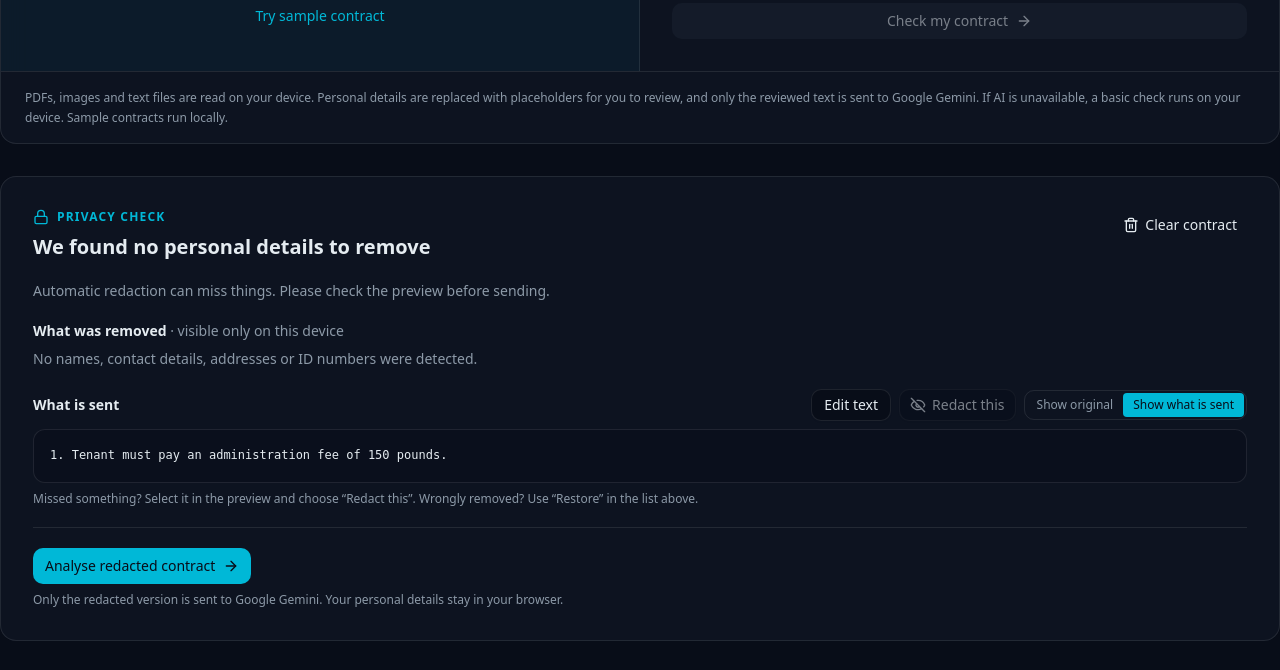
Test: uses local rules when AI fails after the reviewed PDF text is submitted
(page scrolled)
Click the button "Analyse redacted contract": (142, 566) [33,548,251,584]
(page scrolled)
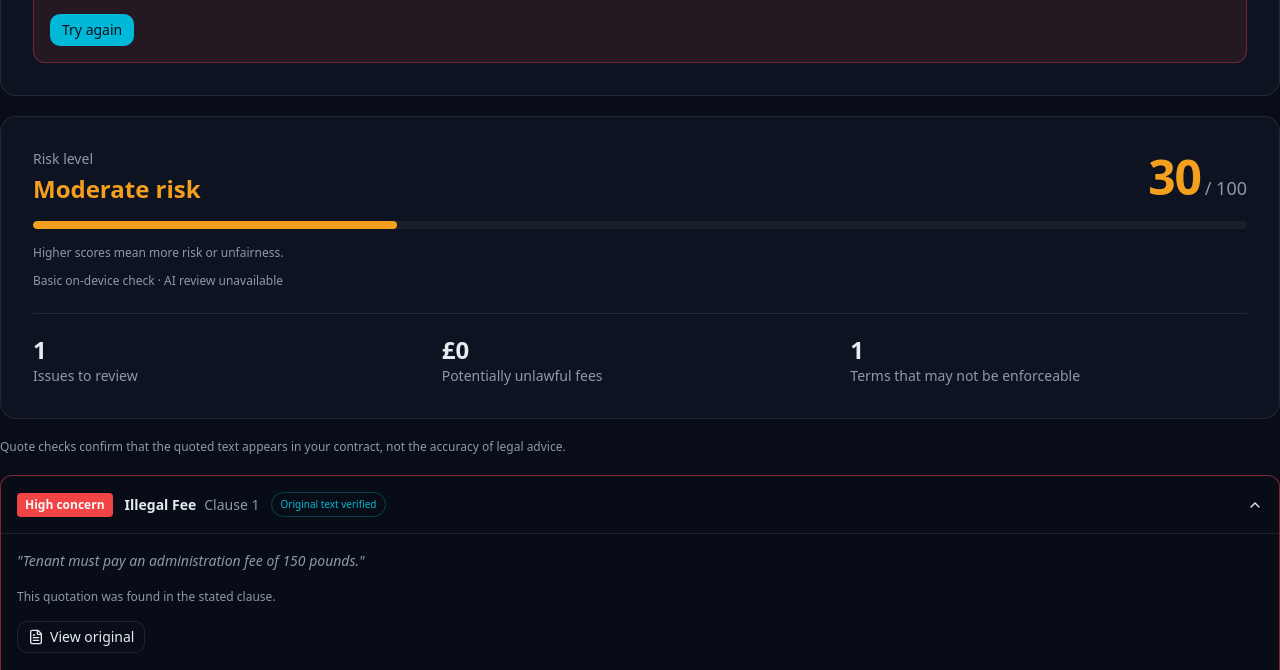
Expected: the text "Basic on-device check · AI review unavailable" is shown, [33,272,283,289]
